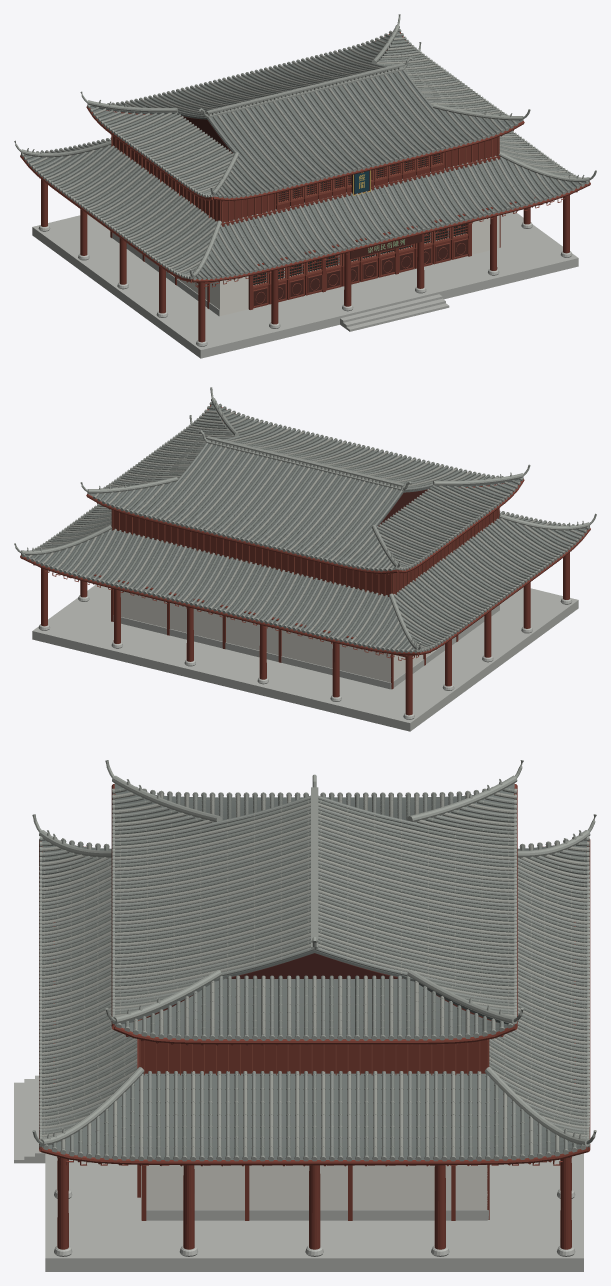
The model's file is chongming-zunjing-pavilion-raw.glb.
3 views of the same model, one above another, from view 1: azimuth 30°, elevation 25°; view 2: azimuth 150°, elevation 25°; view 3: azimuth 270°, elevation 25° (orthographic). The views are drawn at different scales.
Visible parts, largest first — view 1: 崇明学宫尊经阁（2005年照片参照，待地理接入）; view 2: 崇明学宫尊经阁（2005年照片参照，待地理接入）; view 3: 崇明学宫尊经阁（2005年照片参照，待地理接入）.
Part boxes in pixels (x1,y1,x2,y2): 崇明学宫尊经阁（2005年照片参照，待地理接入）: (14, 14, 596, 358); 崇明学宫尊经阁（2005年照片参照，待地理接入）: (14, 387, 596, 731); 崇明学宫尊经阁（2005年照片参照，待地理接入）: (14, 760, 596, 1271).
Size of the model in its own units: 20.1 by 7.93 by 15.59.
